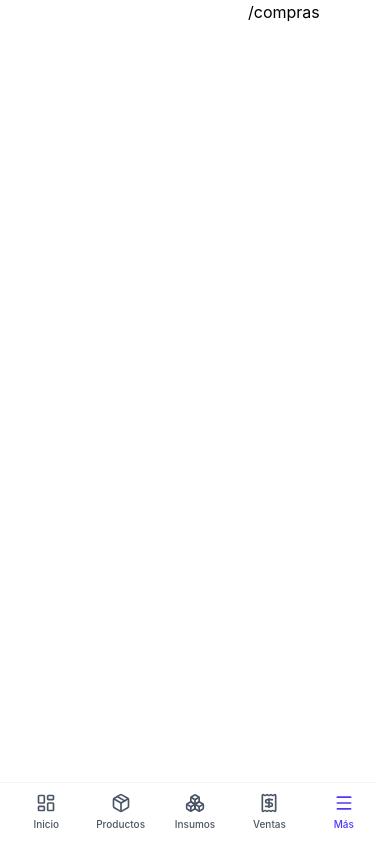
Test: Panel del menú (#437) › "Más" abre el panel con todas las pantallas del ADMIN, el modo oscuro y Salir
Click the button "Más". click: [344, 812]
box: [308, 793, 380, 832]
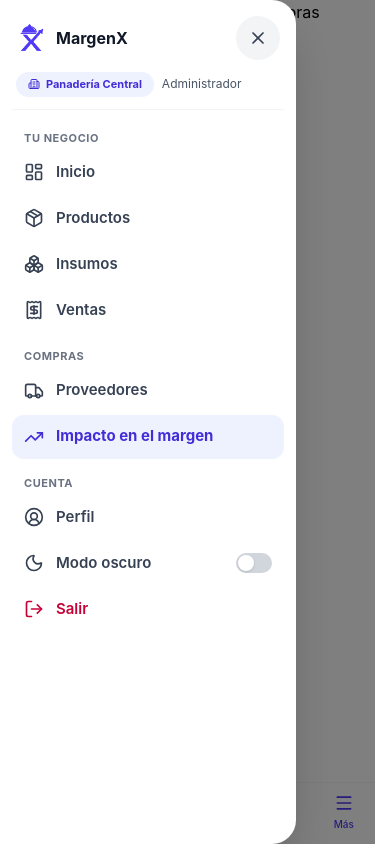
Check: the text "Panadería Central" is shown, box [46, 76, 142, 92]
Check: the text "Administrador" is shown, box [162, 76, 242, 92]
Check: the button "Salir" is shown, box [12, 587, 284, 631]
